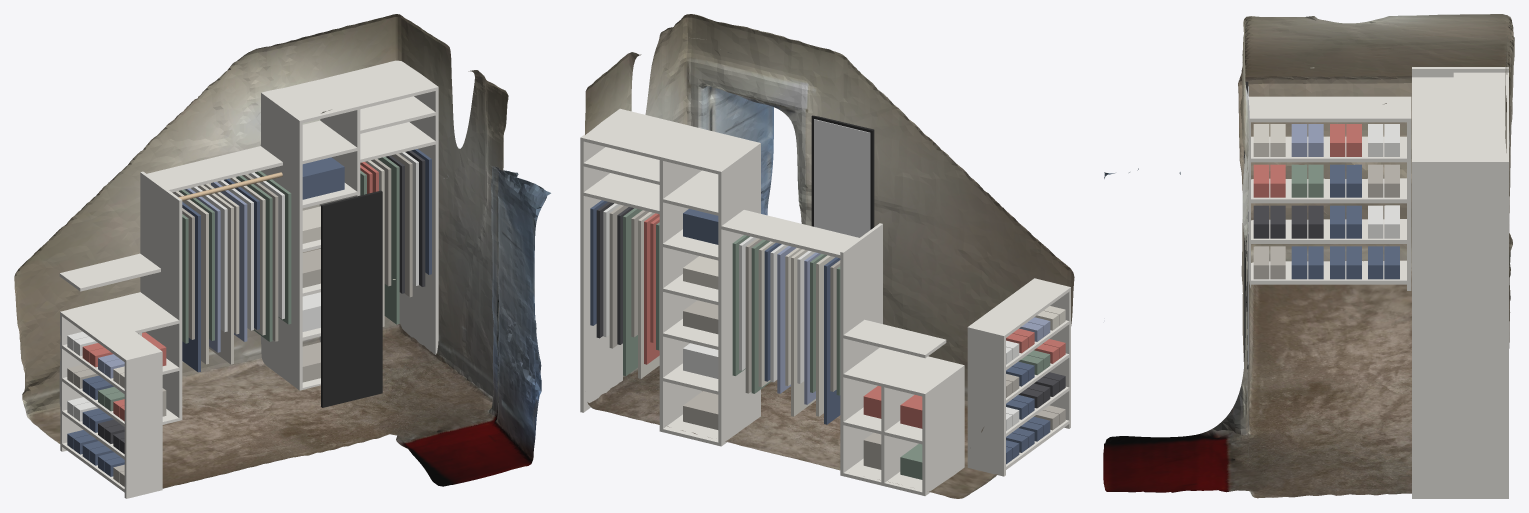
The picture shows the model from 3 angles, left to right: view 1: azimuth 30°, elevation 25°; view 2: azimuth 150°, elevation 25°; view 3: azimuth 270°, elevation 25°; orthographic projection. The views are drawn at different scales.
Visible parts, largest first — view 1: Scan_Closet, Mirror_Frame, P1, P2, Top_Cap, S_Side_Front, P4, B_Shelf, S_Top, A_WallShelf, D_Shelf_170, A_Top (+34 smaller); view 2: Scan_Closet, P2, P1, Mirror_Glass, P3, Top_Cap, S_Side_Back, P4, A_Side_L, A_Top, B_Shelf, S_Top (+49 smaller); view 3: Scan_Closet, P4, Top_Cap, S_Top, S_Shelf_3, S_Shelf_4, S_Shelf_2, S_Shelf_1, S_Side_Back, P1, Shoe.002, Shoe.008 (+31 smaller).
Boxes of the visible parts, left/top/right/bottom form: Scan_Closet: left=14, top=14, right=550, bottom=488; Mirror_Frame: left=321, top=190, right=382, bottom=407; P1: left=140, top=171, right=182, bottom=420; P2: left=260, top=92, right=302, bottom=390; Top_Cap: left=261, top=60, right=437, bottom=123; S_Side_Front: left=124, top=351, right=162, bottom=498; P4: left=399, top=61, right=438, bottom=354; B_Shelf: left=147, top=146, right=282, bottom=192; S_Top: left=60, top=303, right=162, bottom=363; A_WallShelf: left=59, top=253, right=160, bottom=291; D_Shelf_170: left=360, top=122, right=435, bottom=162; A_Top: left=60, top=292, right=179, bottom=333; Scan_Closet: left=585, top=14, right=1074, bottom=498; P2: left=718, top=142, right=760, bottom=446; P1: left=840, top=223, right=882, bottom=475; Mirror_Glass: left=814, top=119, right=870, bottom=237; P3: left=659, top=128, right=702, bottom=432; Top_Cap: left=580, top=109, right=760, bottom=174; S_Side_Back: left=967, top=326, right=1005, bottom=476; P4: left=580, top=108, right=622, bottom=412; A_Side_L: left=922, top=365, right=964, bottom=495; A_Top: left=843, top=347, right=964, bottom=396; B_Shelf: left=721, top=210, right=858, bottom=258; S_Top: left=967, top=278, right=1070, bottom=338; Scan_Closet: left=1103, top=14, right=1514, bottom=498; P4: left=1412, top=160, right=1508, bottom=498; Top_Cap: left=1412, top=77, right=1508, bottom=165; S_Top: left=1249, top=96, right=1411, bottom=122; S_Shelf_3: left=1251, top=178, right=1406, bottom=203; S_Shelf_4: left=1251, top=136, right=1406, bottom=162; S_Shelf_2: left=1251, top=219, right=1406, bottom=243; S_Shelf_1: left=1251, top=260, right=1406, bottom=284; S_Side_Back: left=1407, top=96, right=1411, bottom=290; P1: left=1412, top=67, right=1508, bottom=77; Shoe.002: left=1291, top=246, right=1307, bottom=279; Shoe.008: left=1253, top=205, right=1269, bottom=238.
Size of the model in its own units: 3.24 by 2.63 by 2.38.
13 materials, 1 textured.
